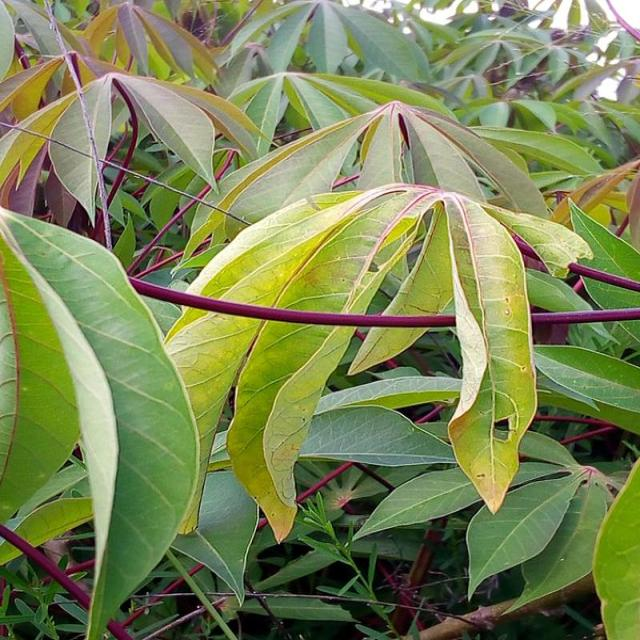cassava leaf: (162, 180, 539, 544), (0, 203, 201, 638)
